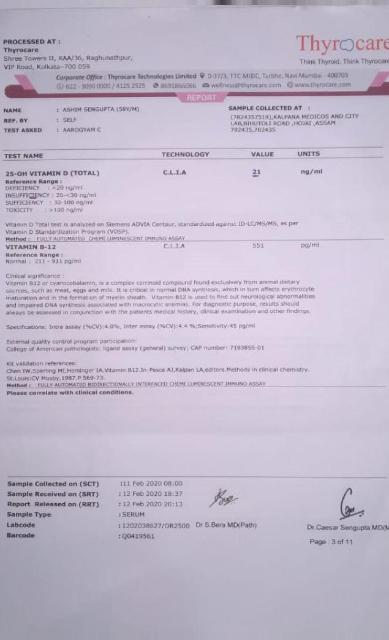Clinical_Conditions: (5, 272, 325, 319)
Name: (62, 104, 140, 113)
Ref_By: (62, 115, 79, 123)
Technology: (161, 168, 191, 178), (163, 242, 188, 252)
Test_Asked: (61, 126, 104, 133)
Test_Name: (4, 168, 105, 216), (5, 242, 87, 268)
Unit: (299, 241, 324, 254), (300, 166, 325, 177)
Value: (250, 242, 270, 251), (252, 167, 264, 179)
